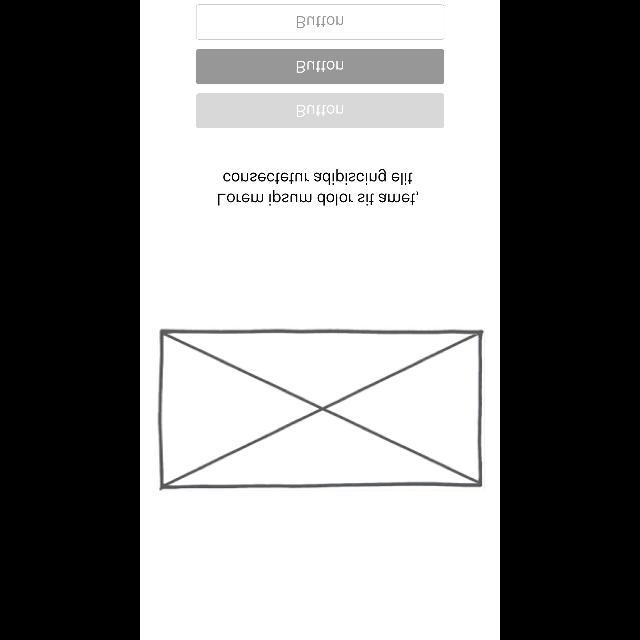image: (158, 329, 484, 491)
text: (219, 168, 419, 206)
textbutton: (196, 5, 444, 40), (196, 50, 444, 84), (196, 94, 444, 128)
